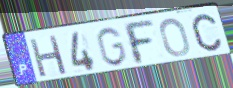4: (70, 29, 97, 73)
C: (190, 12, 224, 53)
F: (120, 19, 156, 66)
G: (95, 26, 129, 68)
H: (28, 33, 69, 80)
O: (158, 17, 192, 58)
